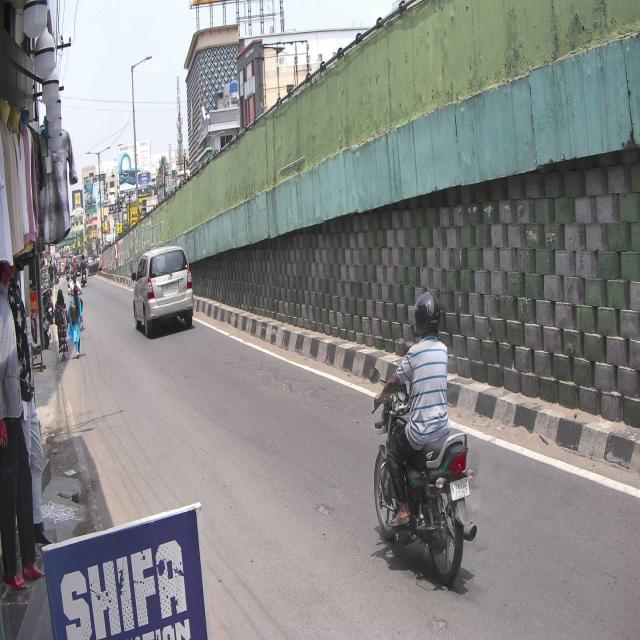single_rider: (373, 293, 478, 583)
